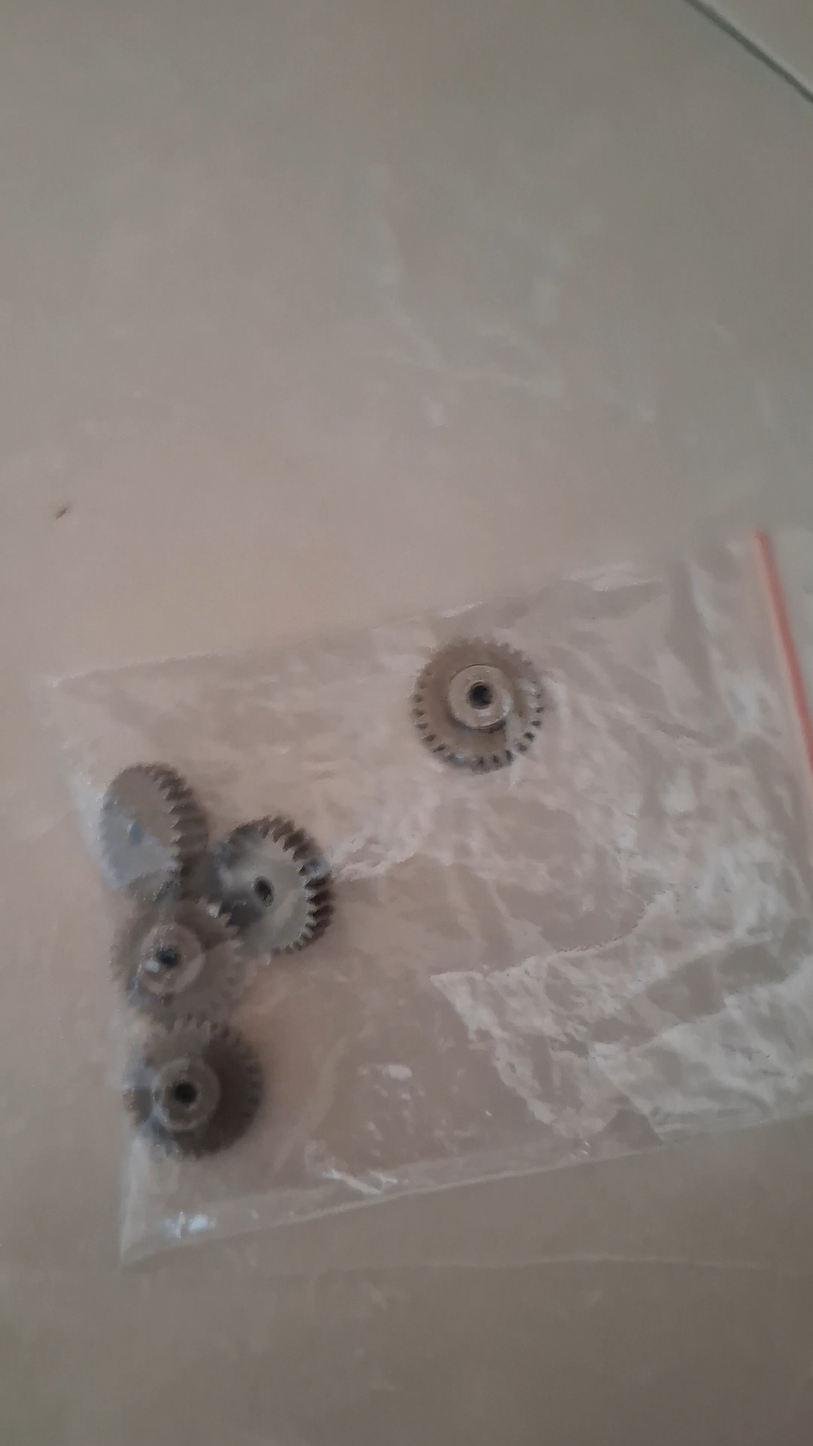spur gear: (124, 1019, 262, 1156), (412, 639, 543, 771), (208, 818, 333, 953), (111, 898, 244, 1022), (101, 764, 207, 898)
